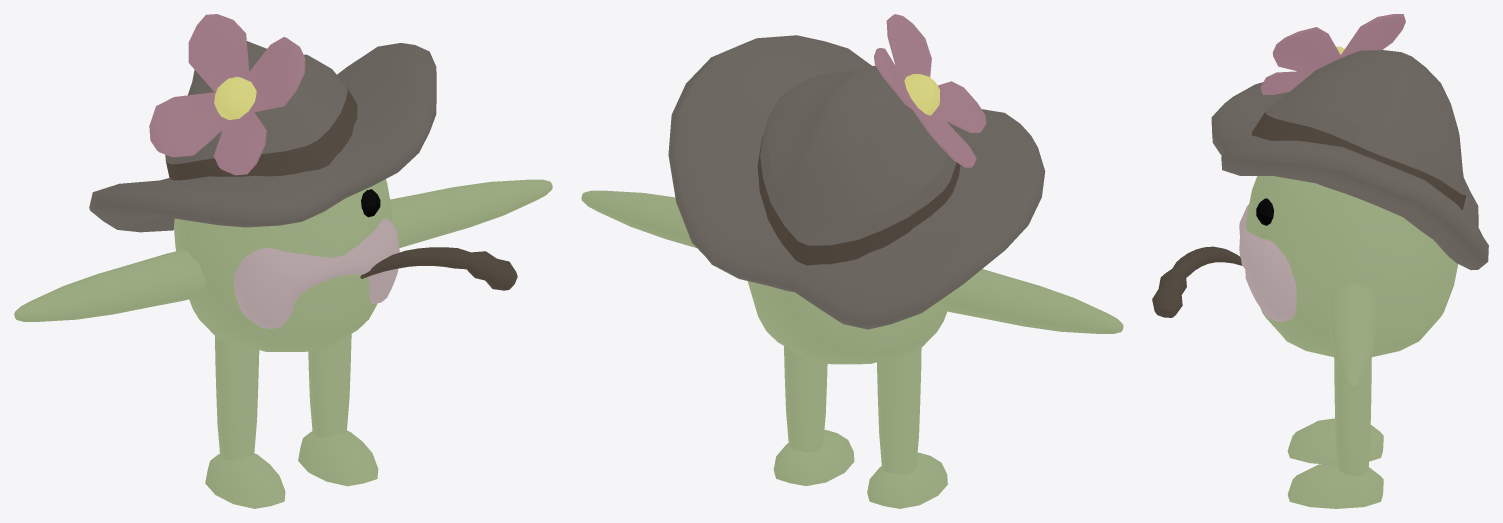
File: CactusCowboi.fbx
3 renders of one model, left to right at view 1: azimuth 30°, elevation 25°; view 2: azimuth 150°, elevation 25°; view 3: azimuth 270°, elevation 25°, orthographic. The views are drawn at different scales.
Visible parts, largest first — view 1: Brim1, Body, Petals1, Cap1, Snorretje, RArm, LArm, RLeg, LLeg, RFoot, LFoot, RIET (+1 smaller); view 2: Brim1, Cap1, Body, RArm, Petals1, RLeg, LLeg, LArm, RFoot, LFoot, Center; view 3: Body, Cap1, Brim1, Petals1, LArm, Snorretje, LLeg, LFoot, RIET, RFoot.
Boxes of the visible parts, bbox=[...] form: Brim1: bbox=[89, 43, 436, 232]; Body: bbox=[174, 179, 392, 351]; Petals1: bbox=[149, 14, 305, 175]; Cap1: bbox=[165, 41, 357, 180]; Snorretje: bbox=[234, 218, 399, 328]; RArm: bbox=[14, 250, 206, 321]; LArm: bbox=[390, 179, 552, 247]; RLeg: bbox=[215, 336, 259, 459]; LLeg: bbox=[308, 334, 351, 437]; RFoot: bbox=[205, 453, 285, 508]; LFoot: bbox=[298, 430, 378, 486]; RIET: bbox=[360, 247, 517, 290]; Brim1: bbox=[668, 35, 1045, 329]; Cap1: bbox=[757, 65, 960, 265]; Body: bbox=[747, 281, 947, 364]; RArm: bbox=[932, 269, 1123, 333]; Petals1: bbox=[874, 14, 986, 167]; RLeg: bbox=[877, 348, 921, 475]; LLeg: bbox=[784, 346, 827, 452]; LArm: bbox=[581, 190, 696, 247]; RFoot: bbox=[867, 452, 947, 508]; LFoot: bbox=[773, 430, 854, 485]; Center: bbox=[904, 74, 939, 115]; Body: bbox=[1246, 176, 1458, 356]; Cap1: bbox=[1251, 50, 1466, 209]; Brim1: bbox=[1211, 82, 1488, 269]; Petals1: bbox=[1261, 14, 1405, 94]; LArm: bbox=[1327, 283, 1378, 390]; Snorretje: bbox=[1239, 204, 1296, 321]; LLeg: bbox=[1334, 359, 1371, 476]; LFoot: bbox=[1287, 462, 1383, 508]; RIET: bbox=[1152, 246, 1242, 317]; RFoot: bbox=[1287, 418, 1383, 463].
Size of the model in its own units: 30.23 by 24.36 by 17.
